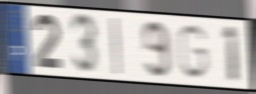1: (221, 24, 242, 86)
2: (32, 12, 64, 73)
3: (69, 10, 99, 78)
9: (141, 19, 172, 80)
G: (176, 22, 209, 81)
I: (110, 16, 122, 77)
